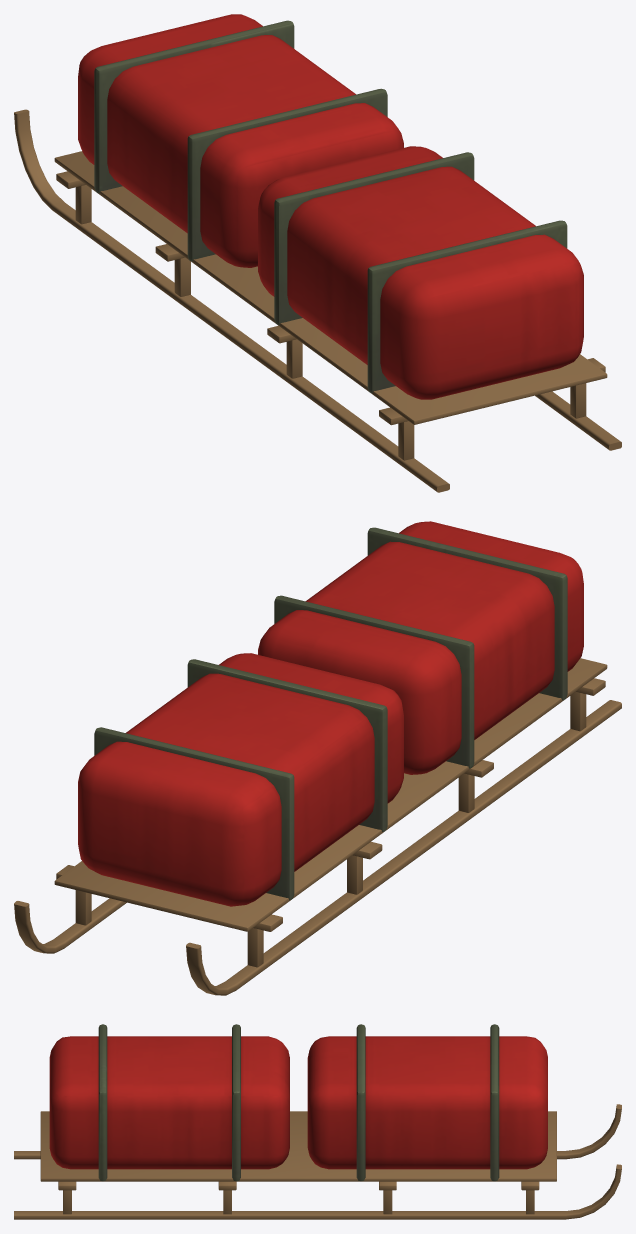
Rendered from endurance-stowed.glb.
3 renders of one model, top to bottom at view 1: azimuth 30°, elevation 25°; view 2: azimuth 150°, elevation 25°; view 3: azimuth 270°, elevation 25°, orthographic. The views are drawn at different scales.
Parts seen in each view (by area): view 1: ENDURANCE_packed; view 2: ENDURANCE_packed; view 3: ENDURANCE_packed.
Boxes of the visible parts, bbox=[...] form: ENDURANCE_packed: bbox=[14, 14, 621, 492]; ENDURANCE_packed: bbox=[14, 521, 621, 995]; ENDURANCE_packed: bbox=[14, 1024, 621, 1219].
Bounding box in the file's own units: 1 × 0.8051 × 3.41.
3 materials, 2 textured.
